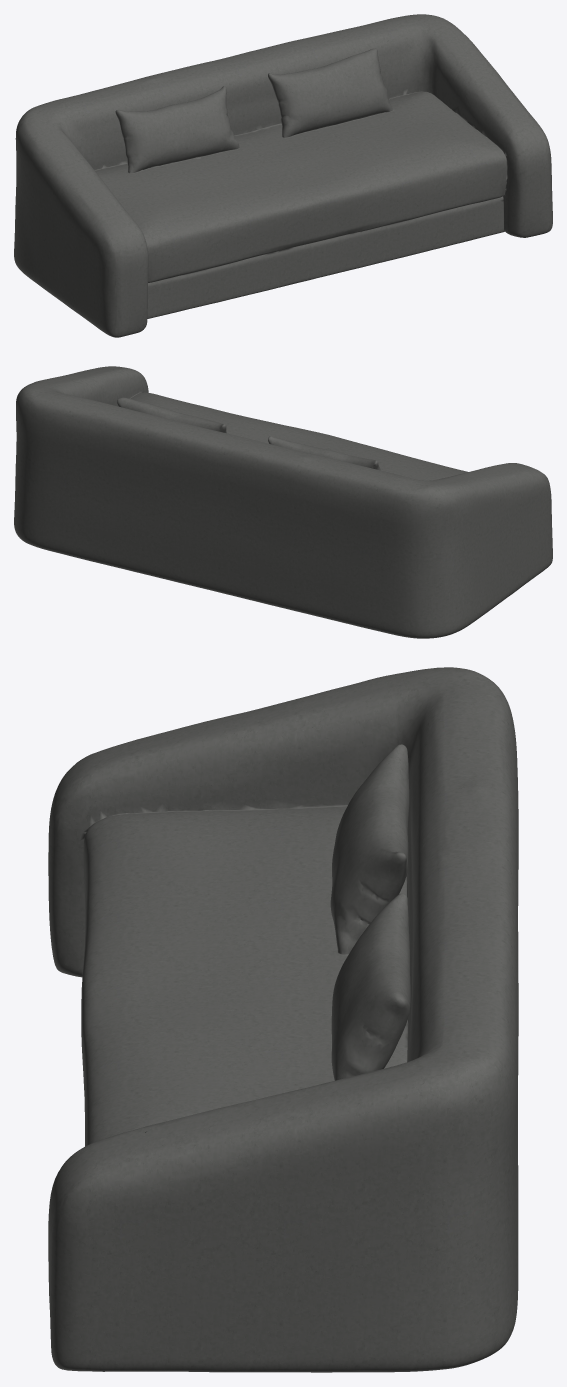
The picture shows the model from 3 angles, top to bottom: view 1: azimuth 30°, elevation 25°; view 2: azimuth 150°, elevation 25°; view 3: azimuth 270°, elevation 25°; orthographic projection. The views are drawn at different scales.
Parts seen in each view (by area): view 1: tripo_node_86d7342d-2adc-409f-9d3f-bfccf851ce7b; view 2: tripo_node_86d7342d-2adc-409f-9d3f-bfccf851ce7b; view 3: tripo_node_86d7342d-2adc-409f-9d3f-bfccf851ce7b.
Part boxes in pixels (x1=…): tripo_node_86d7342d-2adc-409f-9d3f-bfccf851ce7b: x1=14, y1=14, x2=552, y2=337; tripo_node_86d7342d-2adc-409f-9d3f-bfccf851ce7b: x1=14, y1=366, x2=552, y2=638; tripo_node_86d7342d-2adc-409f-9d3f-bfccf851ce7b: x1=48, y1=667, x2=518, y2=1372.
Size of the model in its own units: 2.2 by 0.7 by 1.
Materials: 1 (1 with a texture image).
